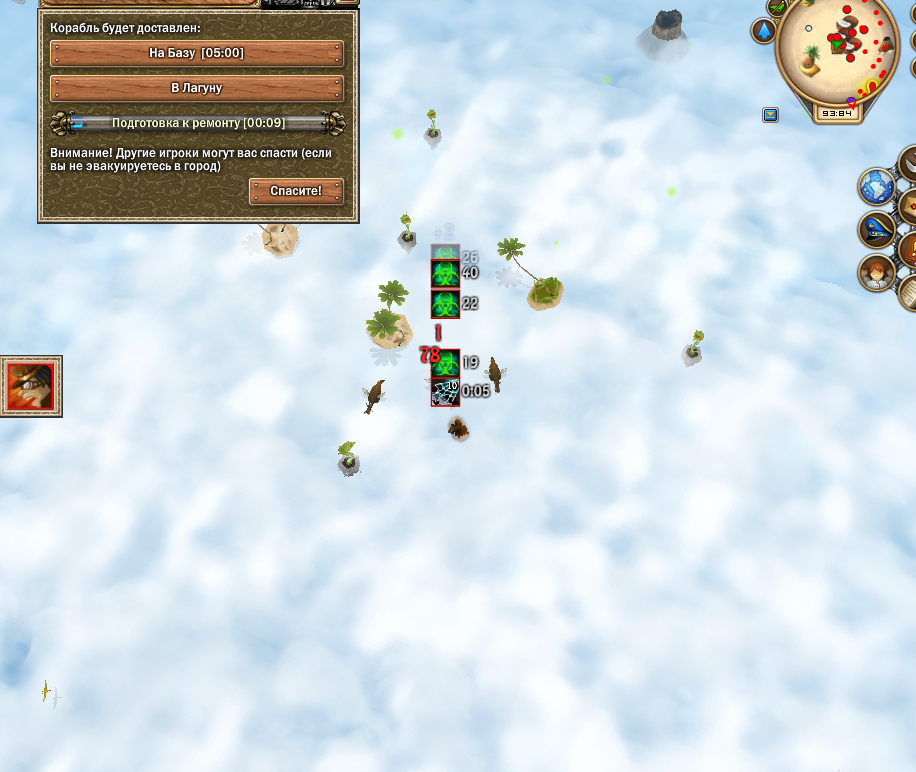palm: (495, 235, 566, 312), (360, 278, 416, 353), (251, 224, 304, 261)
